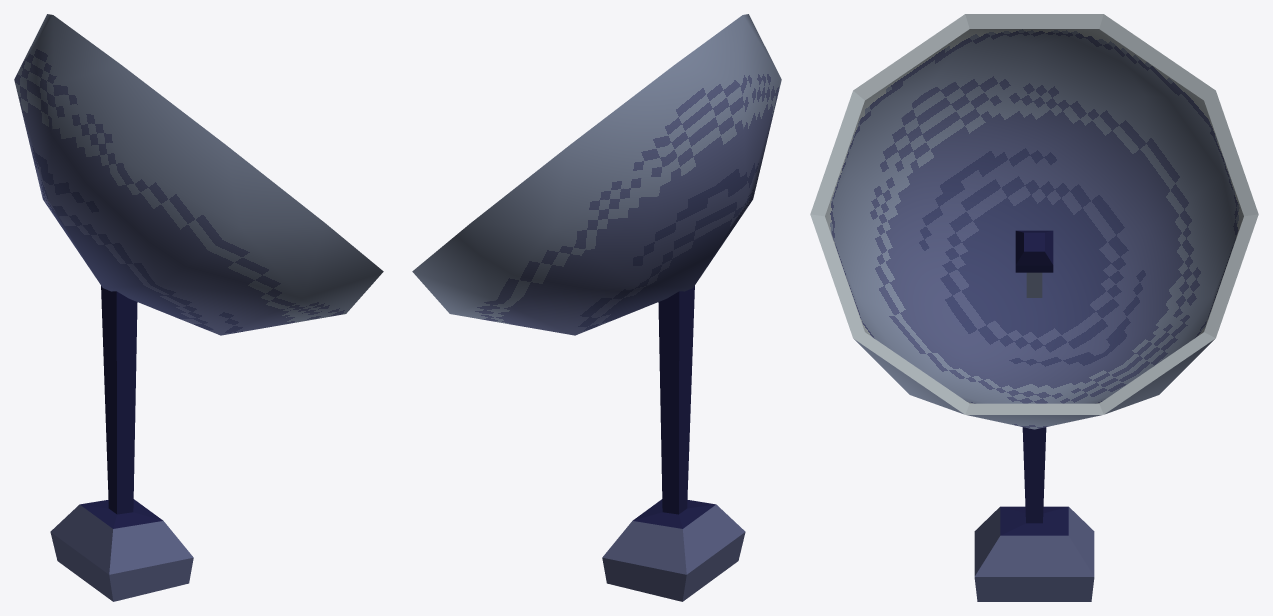
Rendered from antenna.glb.
3 views of the same model, side by side, from view 1: azimuth 30°, elevation 25°; view 2: azimuth 150°, elevation 25°; view 3: azimuth 270°, elevation 25° (orthographic).
Parts seen in each view (by area): view 1: Icosphere, Cube; view 2: Icosphere, Cube; view 3: Icosphere, Cube, Cube.001.
Part boxes in pixels (x1,y1,x2,y2): Icosphere: (14, 14, 383, 335); Cube: (50, 286, 193, 601); Icosphere: (412, 14, 781, 335); Cube: (602, 286, 745, 601); Icosphere: (810, 14, 1258, 429); Cube: (974, 427, 1094, 601); Cube.001: (1015, 230, 1053, 297).
Size of the model in its own units: 106 by 186 by 137.
1 material, 1 textured.
